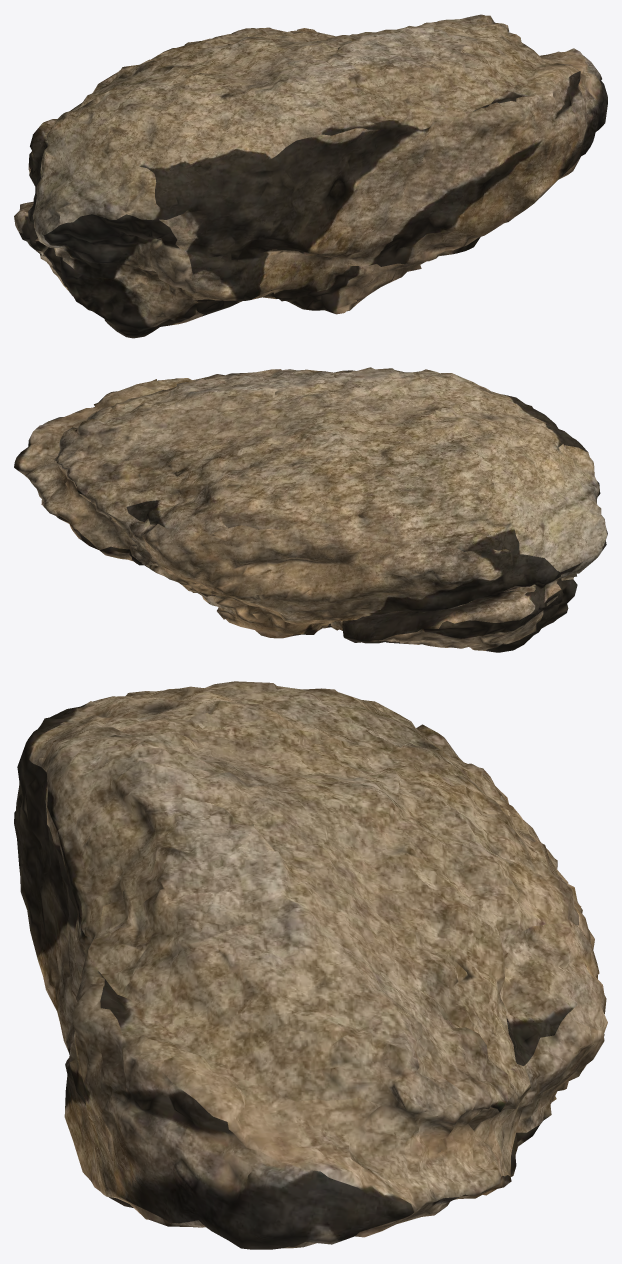
Rendered from namaqualand_boulder_05.glb.
The picture shows the model from 3 angles, top to bottom: view 1: azimuth 30°, elevation 25°; view 2: azimuth 150°, elevation 25°; view 3: azimuth 270°, elevation 25°; orthographic projection. The views are drawn at different scales.
Parts seen in each view (by area): view 1: namaqualand_boulder_05; view 2: namaqualand_boulder_05; view 3: namaqualand_boulder_05.
Boxes of the visible parts, left/top/right/bottom form: namaqualand_boulder_05: left=14, top=14, right=607, bottom=338; namaqualand_boulder_05: left=14, top=367, right=607, bottom=652; namaqualand_boulder_05: left=14, top=681, right=607, bottom=1249.
Size of the model in its own units: 1.36 by 0.5362 by 0.7481.
1 material, 1 textured.
